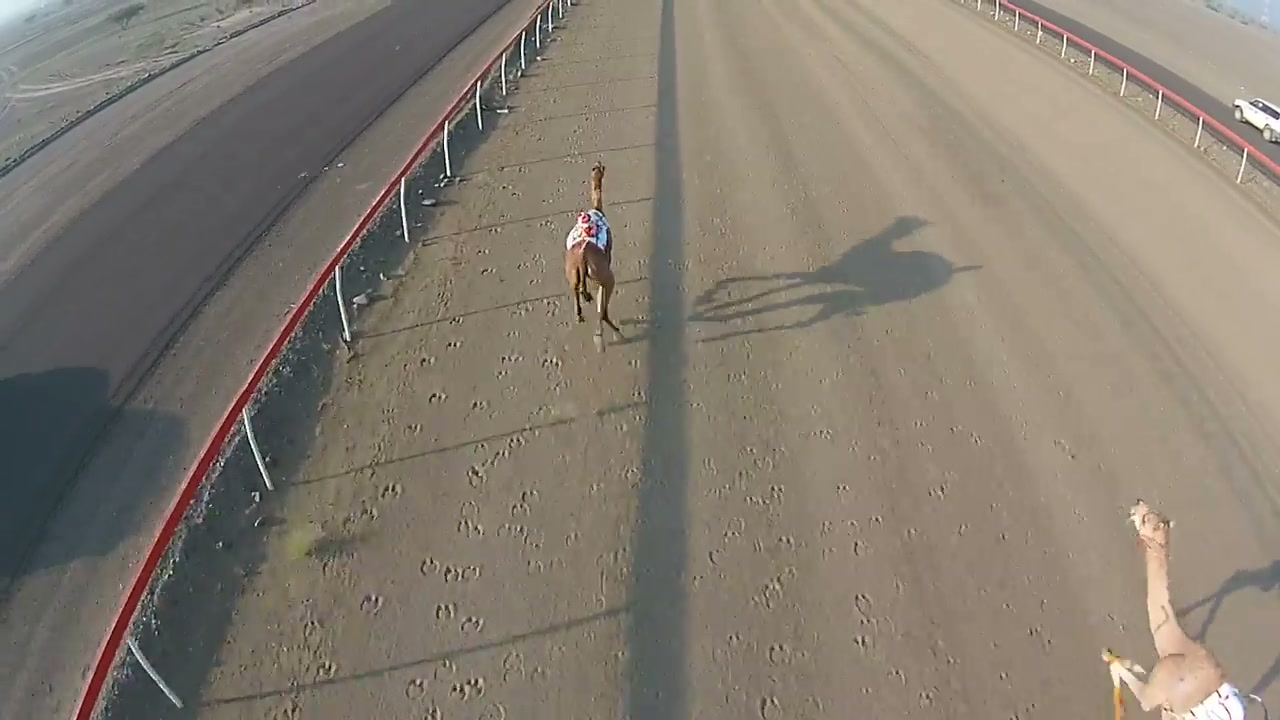animal_footprint: (286, 231, 580, 709), (719, 313, 802, 698)
